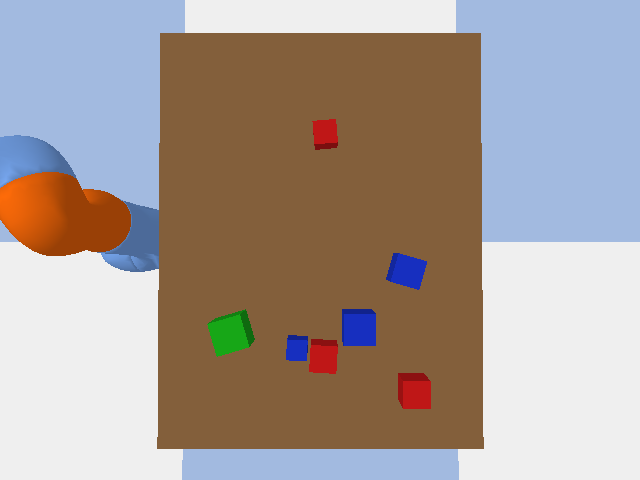blue_obj: (386, 253, 426, 289), (342, 309, 375, 345), (286, 335, 307, 360)
green_obj: (207, 309, 254, 356)
red_obj: (398, 373, 430, 408), (309, 339, 337, 373), (312, 119, 337, 149)
